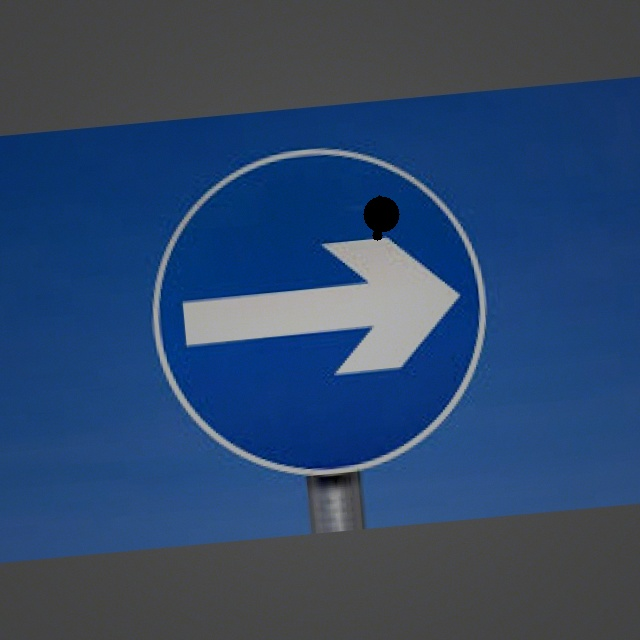Compulsory_Turn_Right: (145, 131, 499, 486)
